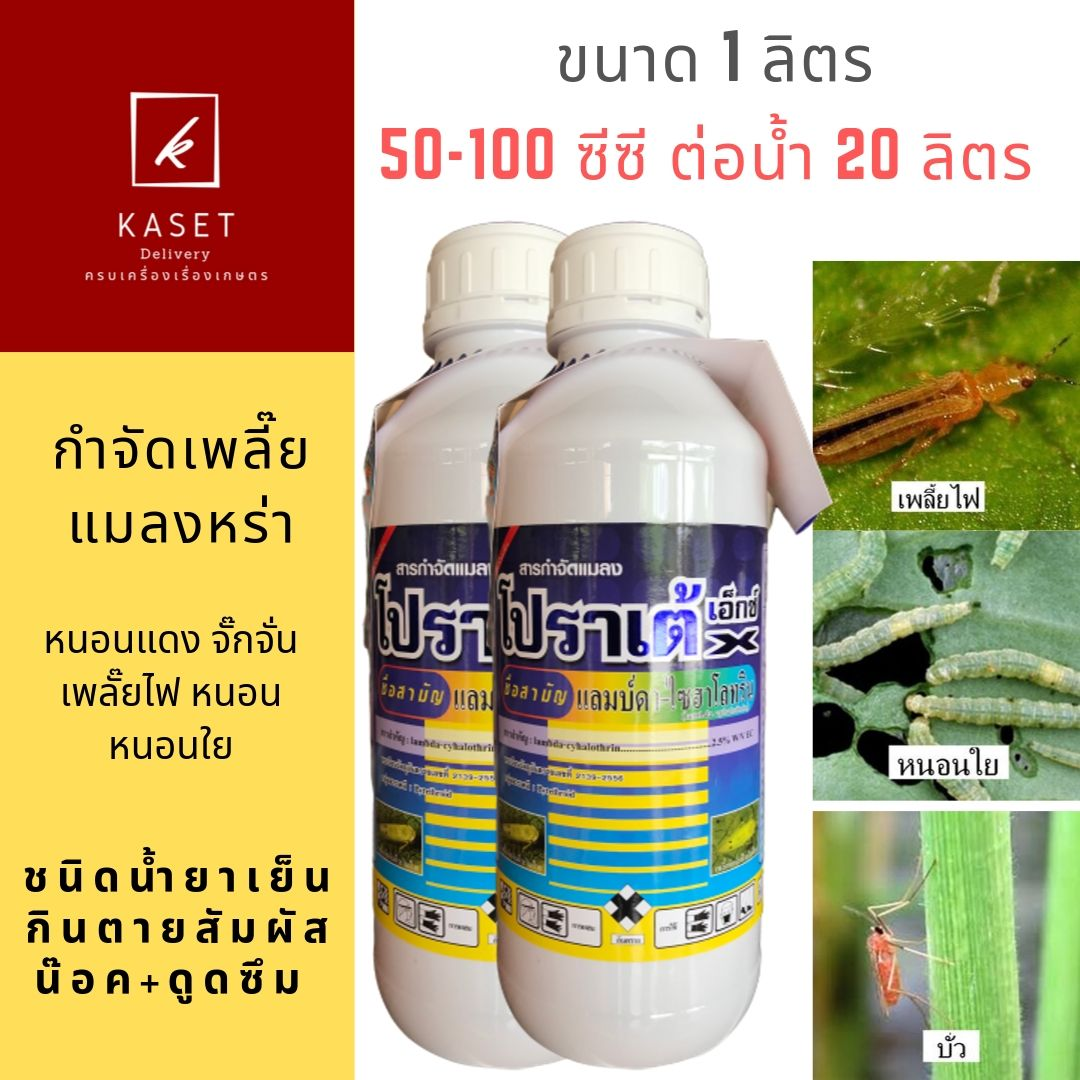Insecticide: (477, 209, 777, 1079), (354, 213, 571, 1075)
